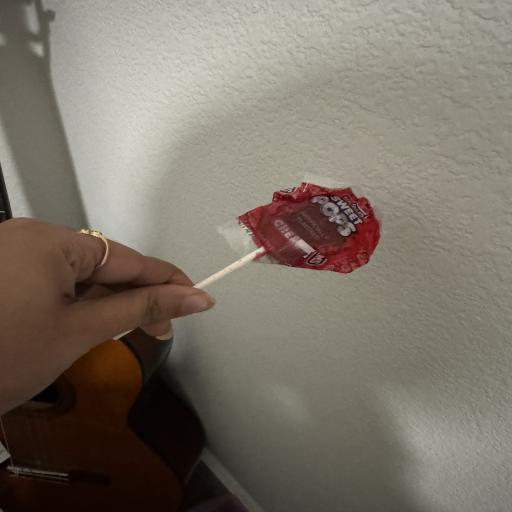chocolate: (220, 183, 379, 273)
